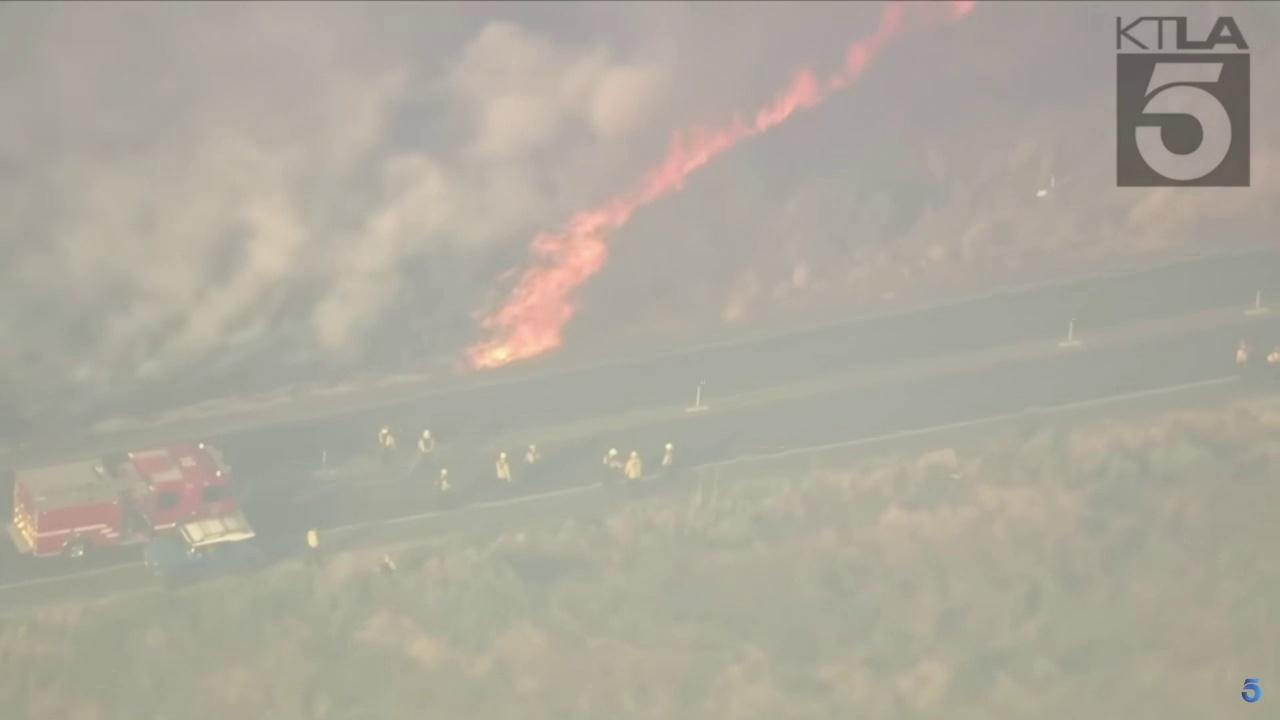fire: (462, 0, 974, 372)
smoke: (0, 0, 961, 414)
